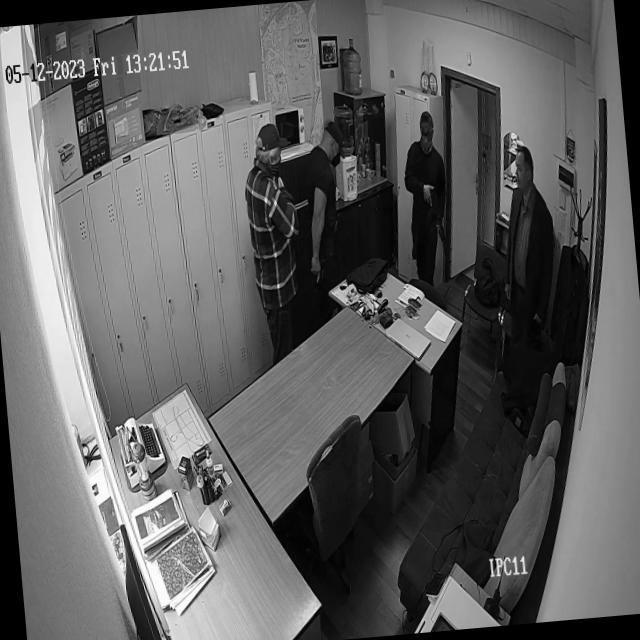gun: (422, 171, 456, 266)
person with a gun: (402, 104, 464, 320)
